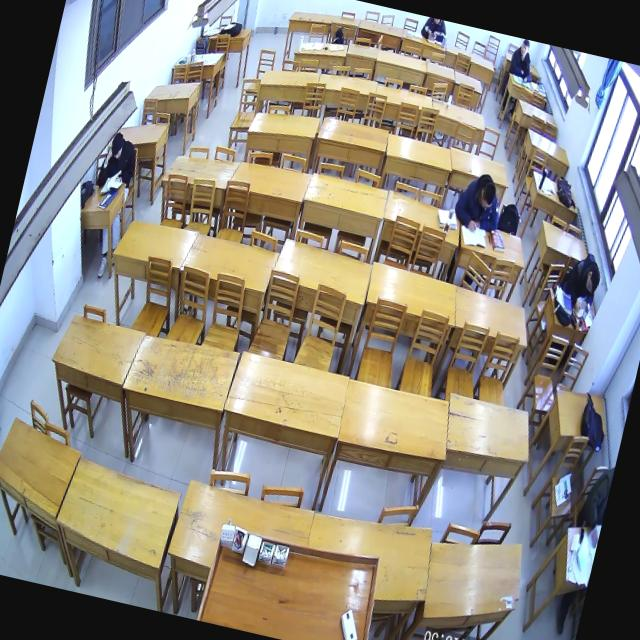down: (474, 178, 498, 214), (582, 264, 604, 297), (107, 131, 127, 162)
lookup: (518, 39, 531, 59)
sit: (448, 165, 509, 238), (553, 246, 606, 318), (93, 128, 143, 196), (505, 37, 539, 84)
